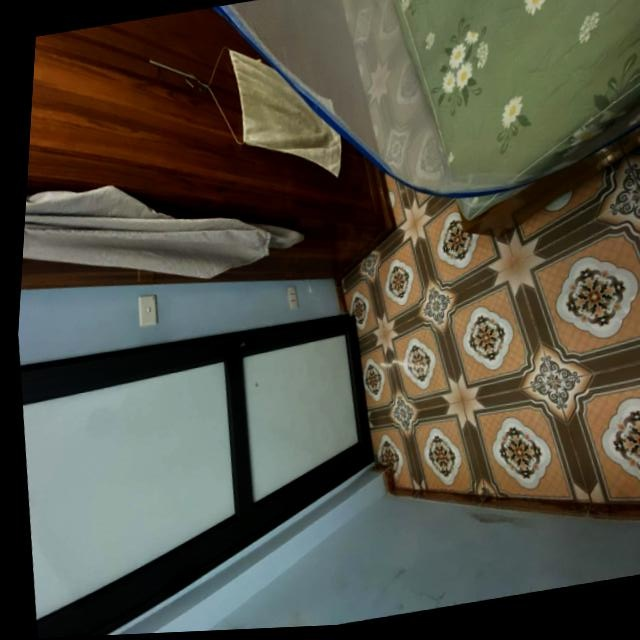outlet: (284, 286, 300, 311)
